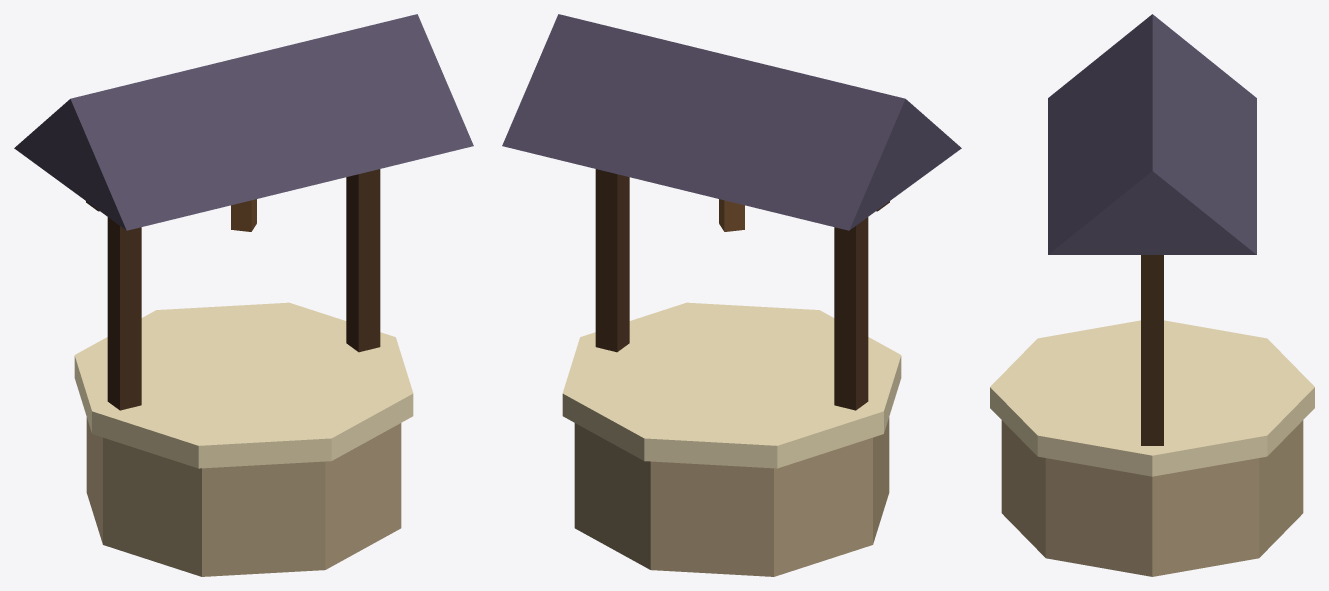
Rendered from well_stone.fbx.
The picture shows the model from 3 angles, left to right: view 1: azimuth 30°, elevation 25°; view 2: azimuth 150°, elevation 25°; view 3: azimuth 270°, elevation 25°; orthographic projection. The views are drawn at different scales.
Parts seen in each view (by area): view 1: well_stone; view 2: well_stone; view 3: well_stone.
Part boxes in pixels (x1,y1,x2,y2): well_stone: (14,14,473,576); well_stone: (502,14,961,576); well_stone: (990,14,1314,576).
Size of the model in its own units: 3.2 by 4 by 2.8.
Materials: 1 (1 with a texture image).
